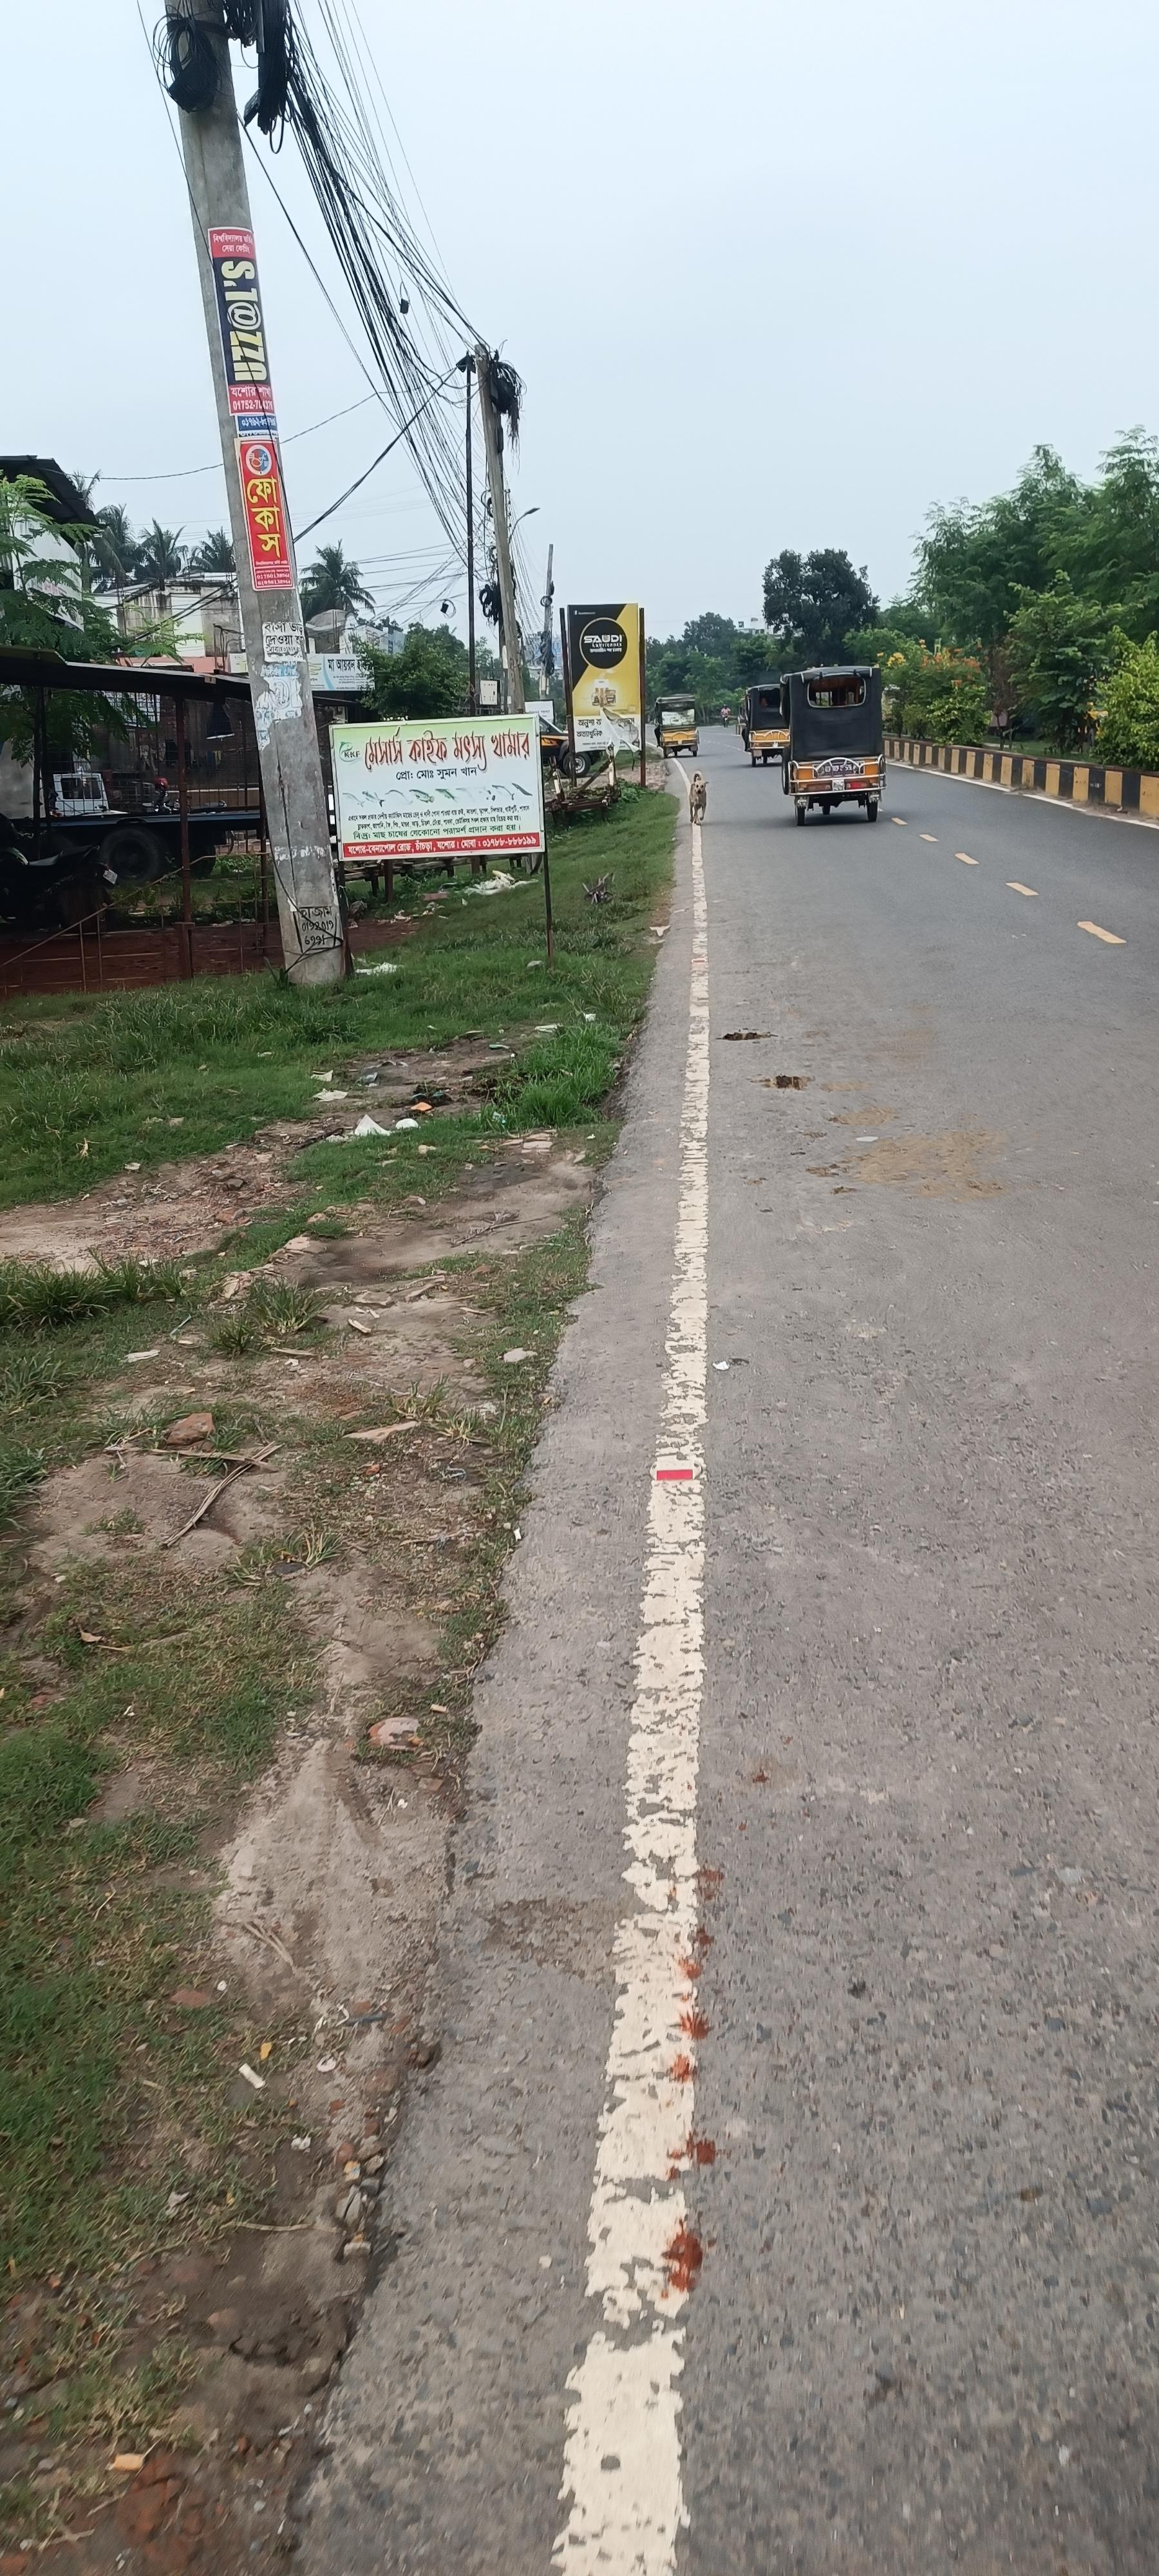Construction-barrier: (921, 690, 1159, 830)
Garbage-bin: (689, 770, 708, 821)
Light-pole: (153, 5, 350, 989), (458, 335, 560, 688)
Traffic-cone: (773, 644, 934, 838), (740, 682, 788, 766), (655, 693, 699, 757)
